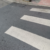zebra: (5, 8, 50, 50)
